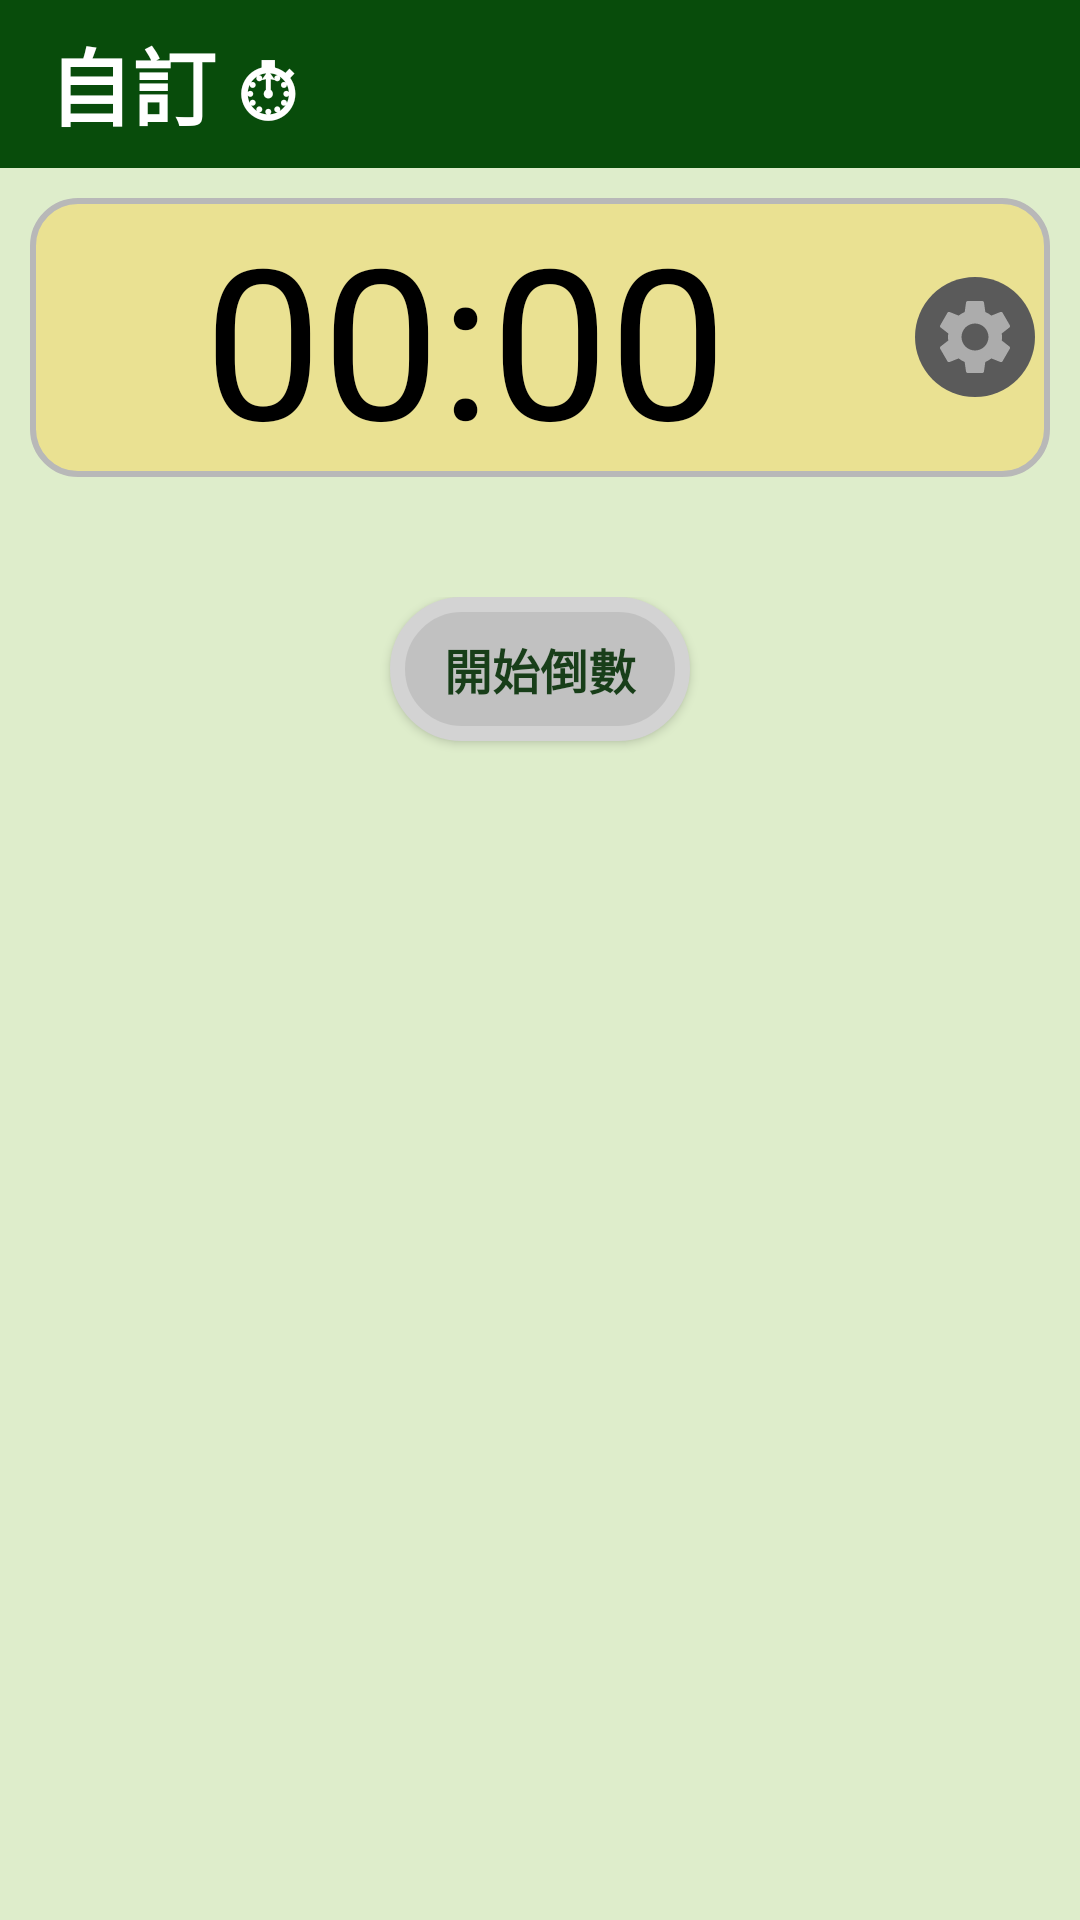

Icons on this 1080w x 1920h Android screen, each with the point to tap as (x=x, y=y):
settings: (x=975, y=337)
